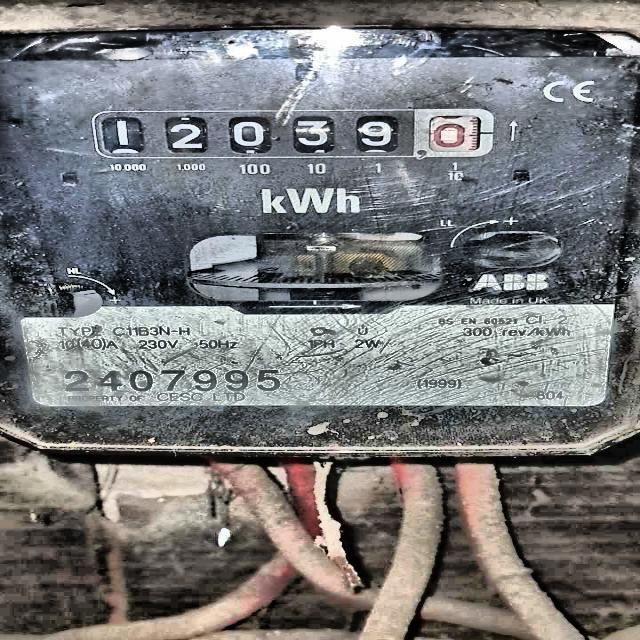Analog: (4, 0, 640, 456)
Reading: (97, 114, 491, 154)
Serial No.: (60, 368, 296, 392)
